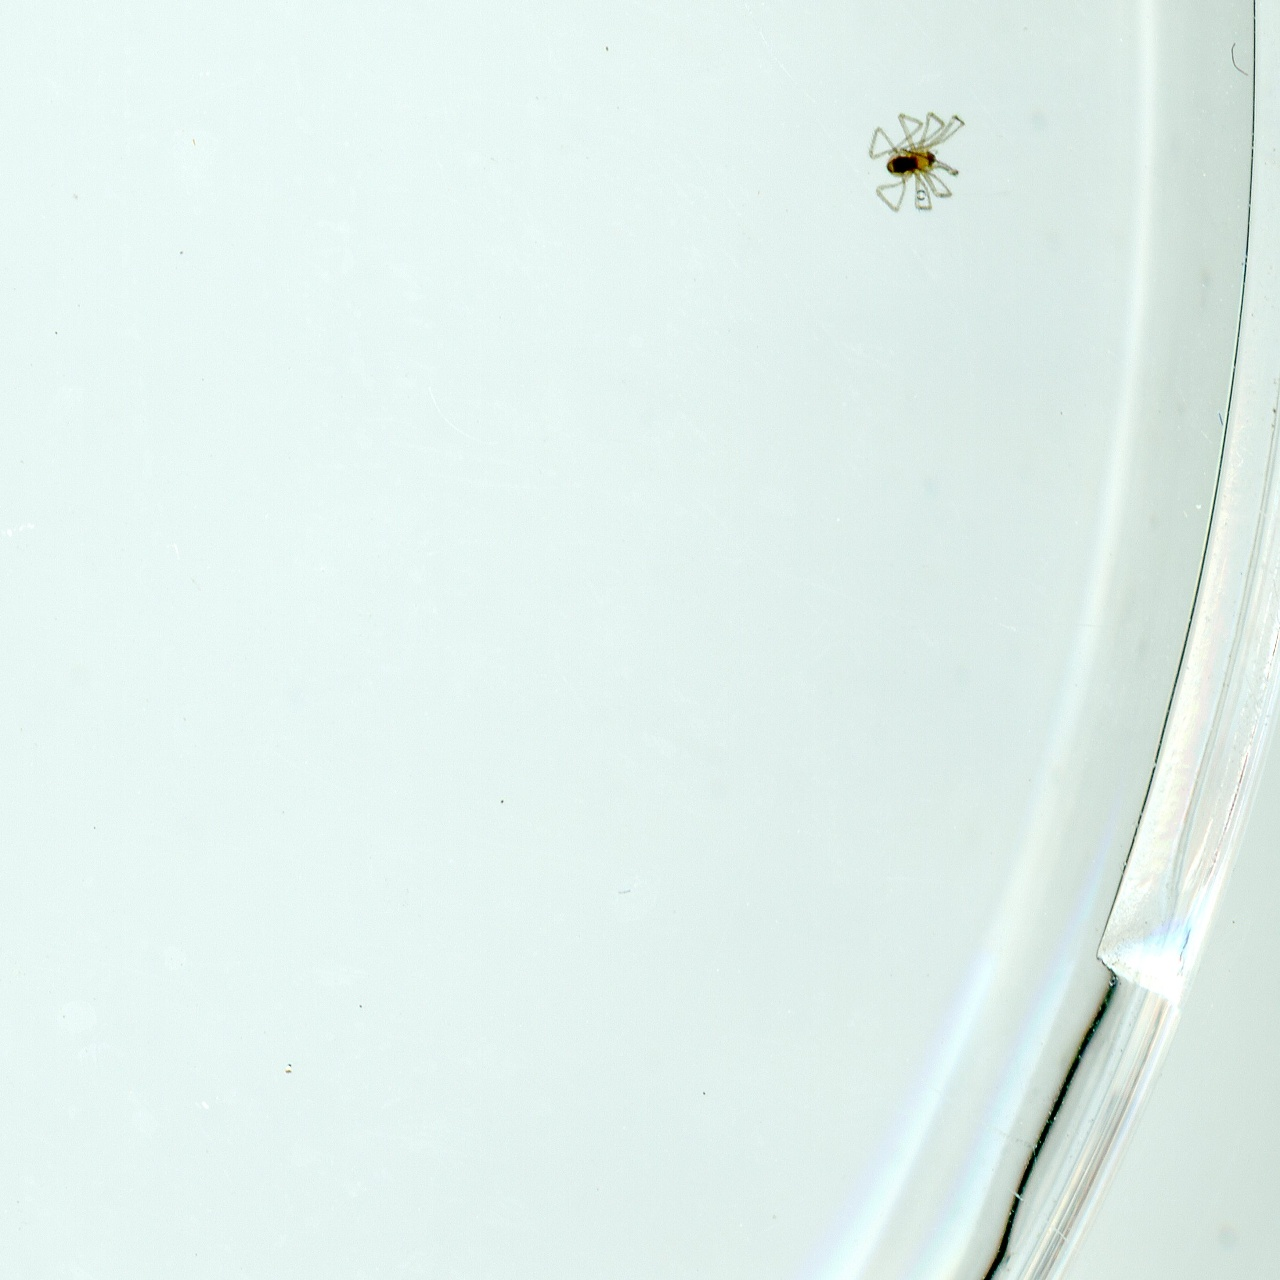arthropod: (864, 103, 969, 215)
